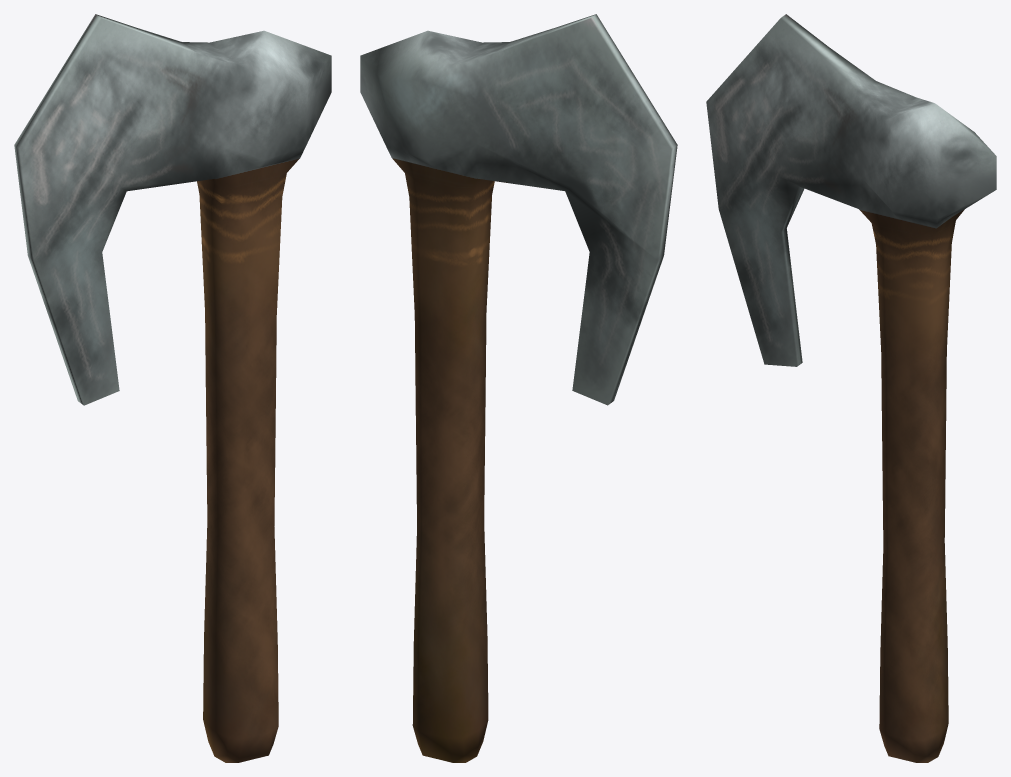
Rendered from Viking_Machado.fbx.
3 views of the same model, side by side, from view 1: azimuth 30°, elevation 25°; view 2: azimuth 150°, elevation 25°; view 3: azimuth 330°, elevation 25° (orthographic). The views are drawn at different scales.
Visible parts, largest first — view 1: machado1; view 2: machado1; view 3: machado1.
Part boxes in pixels (x1,y1,x2,y2): machado1: (14,14,331,762); machado1: (360,14,677,762); machado1: (706,14,996,762).
Size of the model in its own units: 5.33 by 12.61 by 1.39.
